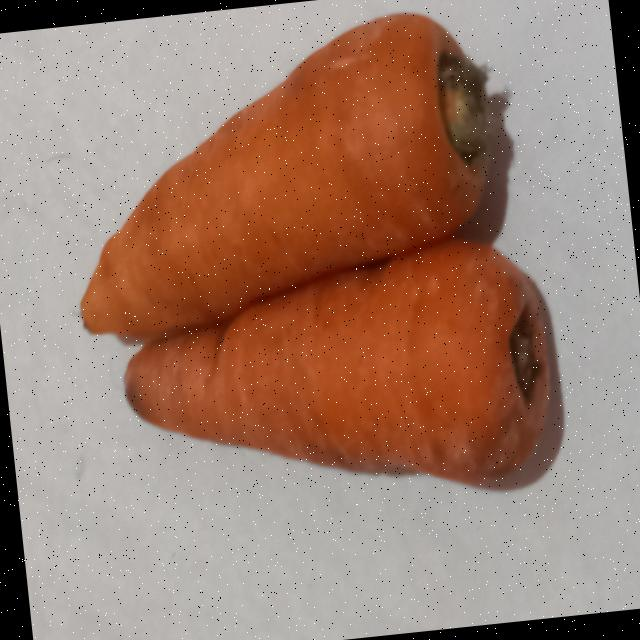carrot: (80, 12, 486, 339), (123, 238, 549, 488)
